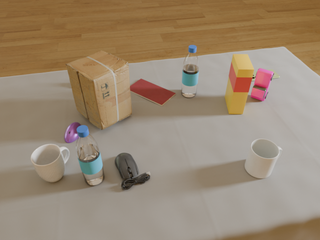book: (130, 79, 176, 106)
bottle: (76, 125, 104, 185), (181, 45, 199, 97)
box: (66, 51, 132, 130), (225, 54, 254, 114)
cup: (31, 144, 69, 182), (245, 139, 282, 178)
mouse: (115, 153, 150, 190), (65, 122, 81, 143)
phone: (252, 69, 280, 81)
toy_car: (251, 68, 274, 101)
